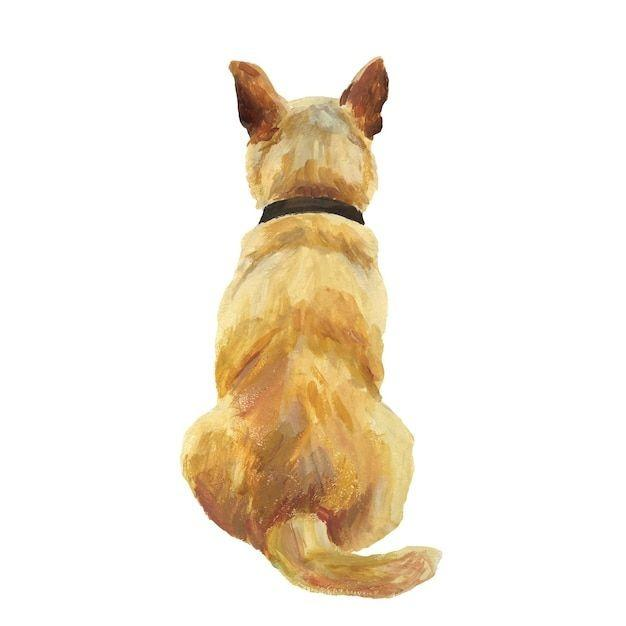adult_dog: (180, 57, 443, 599)
